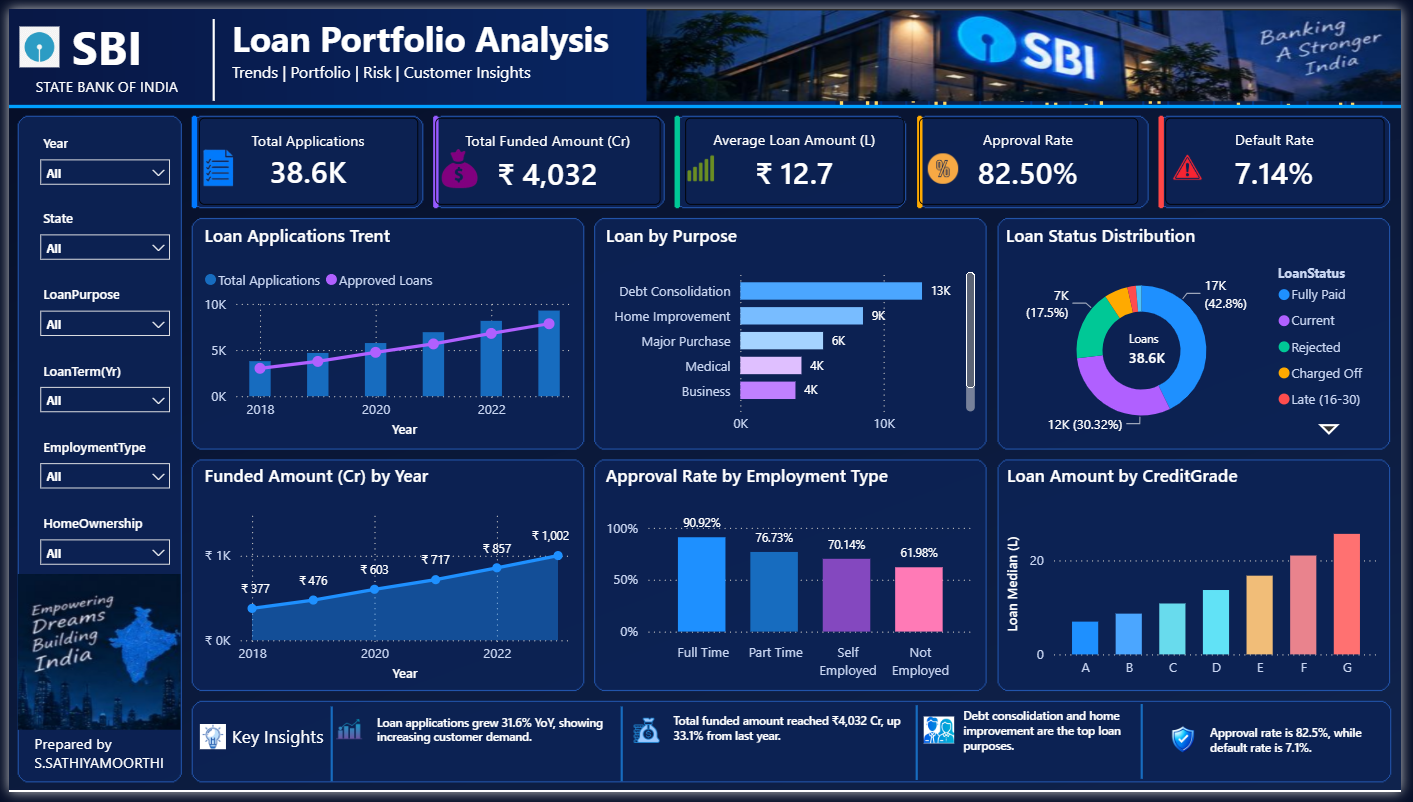

This screenshot's page, from the dashboard's own definition file:
{"tool":"powerbi","page":{"name":"Page 1","canvas":[1280,720],"ordinal":0},"visuals":[{"type":"cardVisual","fields":{"Data":["Measure.Total Applications"]},"box":[174.9,100.1,201.5,79.6],"z":0},{"type":"cardVisual","fields":{"Data":["Measure.Total Funded Amount (Cr)"]},"box":[392.5,100,207.5,80],"z":1000},{"type":"cardVisual","fields":{"Data":["Measure.Average Loan Amount (L)"]},"box":[621.3,100.1,201.5,79.6],"z":2000},{"type":"cardVisual","fields":{"Data":["Measure.Approval Rate"]},"box":[837.3,100.1,201.5,79.6],"z":3000},{"type":"cardVisual","fields":{"Data":["Measure.Default Rate"]},"box":[1062.9,100.1,201.5,79.6],"z":4000},{"type":"lineClusteredColumnComboChart","title":"Loan Applications Trent","fields":{"Category":["DimDate.Year"],"Y":["Measure.Total Applications"],"Y2":["Measure.Approved Loans"]},"box":[174.8,196.2,348.4,202.5],"z":5000},{"type":"clusteredBarChart","title":" Loan by Purpose","fields":{"Category":["sbi_loan_data.LoanPurpose"],"Y":["Measure.Total Applications"]},"box":[543.3,196.2,349.6,202.5],"z":6000},{"type":"donutChart","title":"Loan Status Distribution","fields":{"Category":["sbi_loan_data.LoanStatus"],"Y":["Measure.Total Applications"]},"box":[911.8,196.2,352.1,202.5],"z":7000},{"type":"lineChart","title":"Funded Amount (Cr) by Year","fields":{"Category":["DimDate.Year"],"Y":["Measure.Total Funded Amount (Cr)"]},"box":[174.8,417.5,348.4,206.2],"z":8000},{"type":"clusteredColumnChart","title":"Approval Rate by Employment Type","fields":{"Category":["sbi_loan_data.EmploymentType"],"Y":["Measure.Approval Rate"]},"box":[543.3,417.5,349.6,206.2],"z":9000},{"type":"clusteredColumnChart","title":"Loan Amount by CreditGrade","fields":{"Category":["sbi_loan_data.CreditGrade"],"Y":["Measure.Loan Median (L)"]},"box":[912.8,417.4,352.1,206.2],"z":10000},{"type":"textbox","box":[200,652.5,108.8,41.2],"z":11000},{"type":"cardVisual","fields":{"Data":["Measure.Insight 1"]},"box":[333.3,641.1,232.2,80],"z":12000},{"type":"cardVisual","fields":{"Data":["Measure.Insight 4"]},"box":[1087.8,638.9,177.8,78.9],"z":13000},{"type":"cardVisual","fields":{"Data":["Measure.Insight 2"]},"box":[605.6,640,223.3,78.9],"z":14000},{"type":"cardVisual","fields":{"Data":["Measure.Insight 3"]},"box":[872.2,635.6,166.7,78.9],"z":15000},{"type":"shape","box":[561.2,641.2,5,68.8],"z":16000},{"type":"shape","box":[832.2,640,5,68.8],"z":17000},{"type":"shape","box":[1038.9,638.9,5,68.8],"z":18000},{"type":"shape","box":[294.4,641.1,5,68.8],"z":19000},{"type":"image","box":[300,650,25.6,23.3],"z":20000},{"type":"image","box":[573.3,652.2,25.6,23.3],"z":21000},{"type":"image","box":[837.8,650,34.4,24.4],"z":22000},{"type":"image","box":[1062.2,652.2,35.6,41.1],"z":23000},{"type":"image","box":[174.4,657.8,25.6,23.3],"z":24000},{"type":"shape","box":[180,8.9,15.6,75.6],"z":25000},{"type":"textbox","box":[0,0,180,84.4],"z":26000},{"type":"textbox","box":[200,0,366.7,84.4],"z":27000},{"type":"image","box":[0,16,55.6,37.8],"z":28000},{"type":"slicer","fields":{"Values":["DimDate.Year"]},"box":[18.1,109.8,139.9,70],"z":29000},{"type":"slicer","fields":{"Values":["sbi_loan_data.State"]},"box":[18.1,179.8,139.9,70],"z":30000},{"type":"slicer","fields":{"Values":["sbi_loan_data.LoanPurpose"]},"box":[18.1,249.7,139.9,70],"z":31000},{"type":"slicer","fields":{"Values":["sbi_loan_data.LoanTermYears"]},"box":[18.1,319.7,139.9,70],"z":32000},{"type":"slicer","fields":{"Values":["sbi_loan_data.EmploymentType"]},"box":[18.1,389.7,139.9,70],"z":33000},{"type":"slicer","fields":{"Values":["sbi_loan_data.HomeOwnership"]},"box":[18.1,459.7,139.9,70],"z":34000},{"type":"textbox","box":[18.1,661.1,148.4,53.1],"z":35000},{"type":"image","box":[586.2,0,693.8,85],"z":36000},{"type":"cardVisual","fields":{"Data":["Measure.Total Applications"]},"box":[1012.2,284.7,76,54.3],"z":37000},{"type":"image","box":[8.4,529.6,149.6,133.9],"z":38000},{"type":"image","box":[172.5,129.1,40.1,34.5],"z":39000},{"type":"image","box":[393,129.1,42.3,35.6],"z":40000},{"type":"image","box":[621.2,129.1,30.1,35.6],"z":41000},{"type":"image","box":[844.9,129.1,27.8,35.6],"z":42000},{"type":"image","box":[1063,128,40,36],"z":43000}]}

Visuals, with their boxes in screenshot pixels (x1, y1, x2, y2), scaled from the page's 1280x720 canvas onto the 1413x802 screenshot:
cardVisual - Measure.Total Applications: select_region(193, 112, 416, 200)
cardVisual - Measure.Total Funded Amount (Cr): select_region(433, 111, 662, 200)
cardVisual - Measure.Average Loan Amount (L): select_region(686, 112, 908, 200)
cardVisual - Measure.Approval Rate: select_region(924, 112, 1147, 200)
cardVisual - Measure.Default Rate: select_region(1173, 112, 1396, 200)
"Loan Applications Trent" lineClusteredColumnComboChart: select_region(193, 219, 578, 444)
" Loan by Purpose" clusteredBarChart: select_region(600, 219, 986, 444)
"Loan Status Distribution" donutChart: select_region(1007, 219, 1395, 444)
"Funded Amount (Cr) by Year" lineChart: select_region(193, 465, 578, 695)
"Approval Rate by Employment Type" clusteredColumnChart: select_region(600, 465, 986, 695)
"Loan Amount by CreditGrade" clusteredColumnChart: select_region(1008, 465, 1396, 695)
textbox: select_region(221, 727, 341, 773)
cardVisual - Measure.Insight 1: select_region(368, 714, 624, 801)
cardVisual - Measure.Insight 4: select_region(1201, 712, 1397, 800)
cardVisual - Measure.Insight 2: select_region(669, 713, 915, 801)
cardVisual - Measure.Insight 3: select_region(963, 708, 1147, 796)
shape: select_region(620, 714, 625, 791)
shape: select_region(919, 713, 924, 790)
shape: select_region(1147, 712, 1152, 788)
shape: select_region(325, 714, 331, 791)
image: select_region(331, 724, 359, 750)
image: select_region(633, 726, 661, 752)
image: select_region(925, 724, 963, 751)
image: select_region(1173, 726, 1212, 772)
image: select_region(193, 733, 221, 759)
shape: select_region(199, 10, 216, 94)
textbox: select_region(0, 0, 199, 94)
textbox: select_region(221, 0, 626, 94)
image: select_region(0, 18, 61, 60)
slicer - DimDate.Year: select_region(20, 122, 174, 200)
slicer - sbi_loan_data.State: select_region(20, 200, 174, 278)
slicer - sbi_loan_data.LoanPurpose: select_region(20, 278, 174, 356)
slicer - sbi_loan_data.LoanTermYears: select_region(20, 356, 174, 434)
slicer - sbi_loan_data.EmploymentType: select_region(20, 434, 174, 512)
slicer - sbi_loan_data.HomeOwnership: select_region(20, 512, 174, 590)
textbox: select_region(20, 736, 184, 796)
image: select_region(647, 0, 1412, 95)
cardVisual - Measure.Total Applications: select_region(1117, 317, 1201, 378)
image: select_region(9, 590, 174, 739)
image: select_region(190, 144, 235, 182)
image: select_region(434, 144, 481, 183)
image: select_region(686, 144, 719, 183)
image: select_region(933, 144, 963, 183)
image: select_region(1173, 143, 1218, 183)
